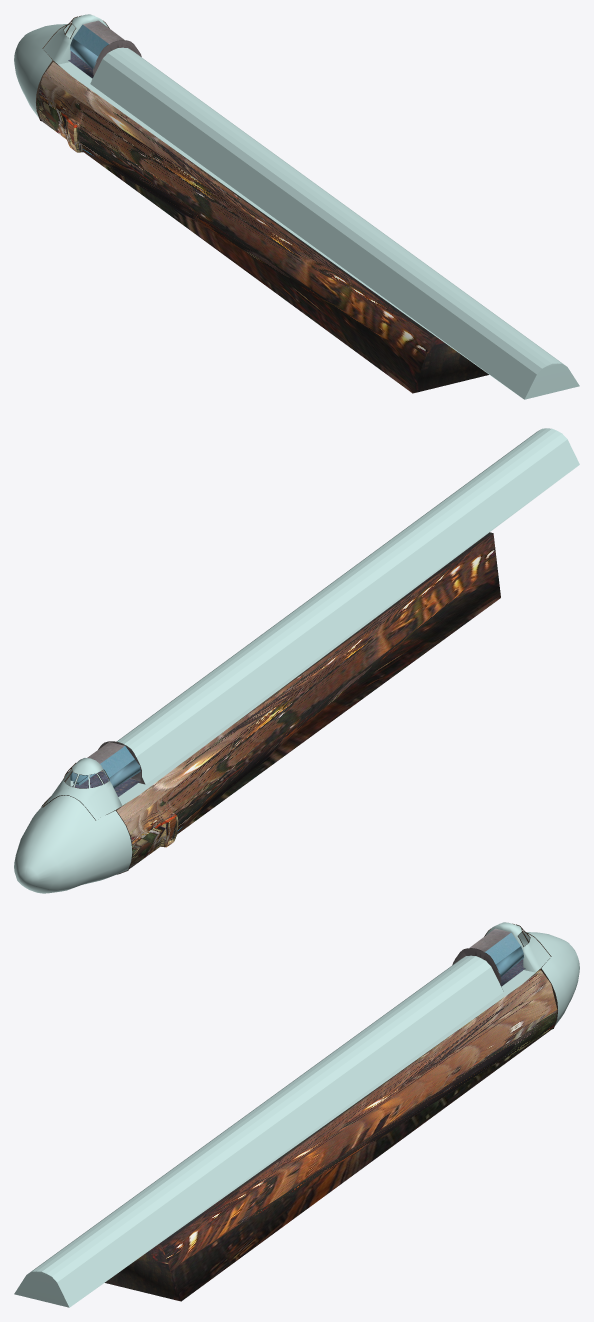
The picture shows the model from 3 angles, top to bottom: view 1: azimuth 30°, elevation 25°; view 2: azimuth 150°, elevation 25°; view 3: azimuth 330°, elevation 25°; orthographic projection.
Parts seen in each view (by area): view 1: static-material-0, static-material-3, static-material-1; view 2: static-material-0, static-material-3, static-material-1; view 3: static-material-0, static-material-3, static-material-1.
Boxes of the visible parts, left/top/right/bottom form: static-material-0: left=14, top=14, right=579, bottom=399; static-material-3: left=36, top=61, right=488, bottom=393; static-material-1: left=68, top=20, right=141, bottom=78; static-material-0: left=14, top=428, right=579, bottom=893; static-material-3: left=116, top=532, right=500, bottom=868; static-material-1: left=70, top=741, right=145, bottom=796; static-material-0: left=14, top=922, right=579, bottom=1307; static-material-3: left=105, top=969, right=557, bottom=1301; static-material-1: left=452, top=928, right=525, bottom=991.
Size of the model in its own units: 7.29 by 7.82 by 65.92.
Materials: 4 (2 with a texture image).
